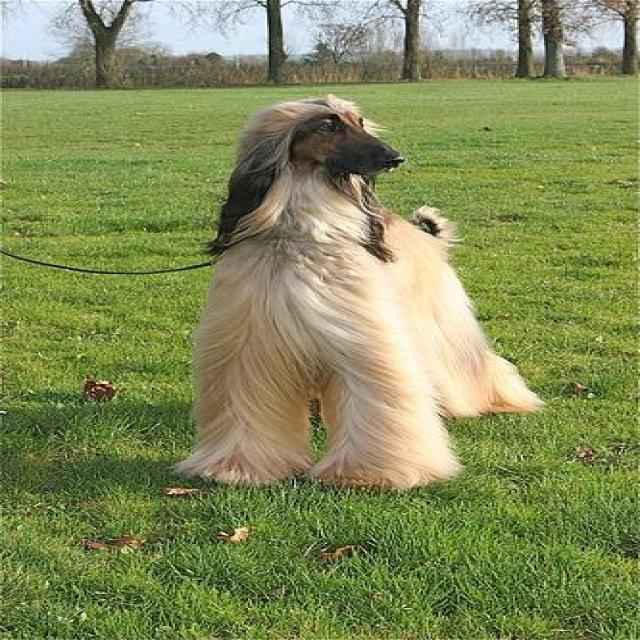afghan_hound: (173, 96, 546, 494)
